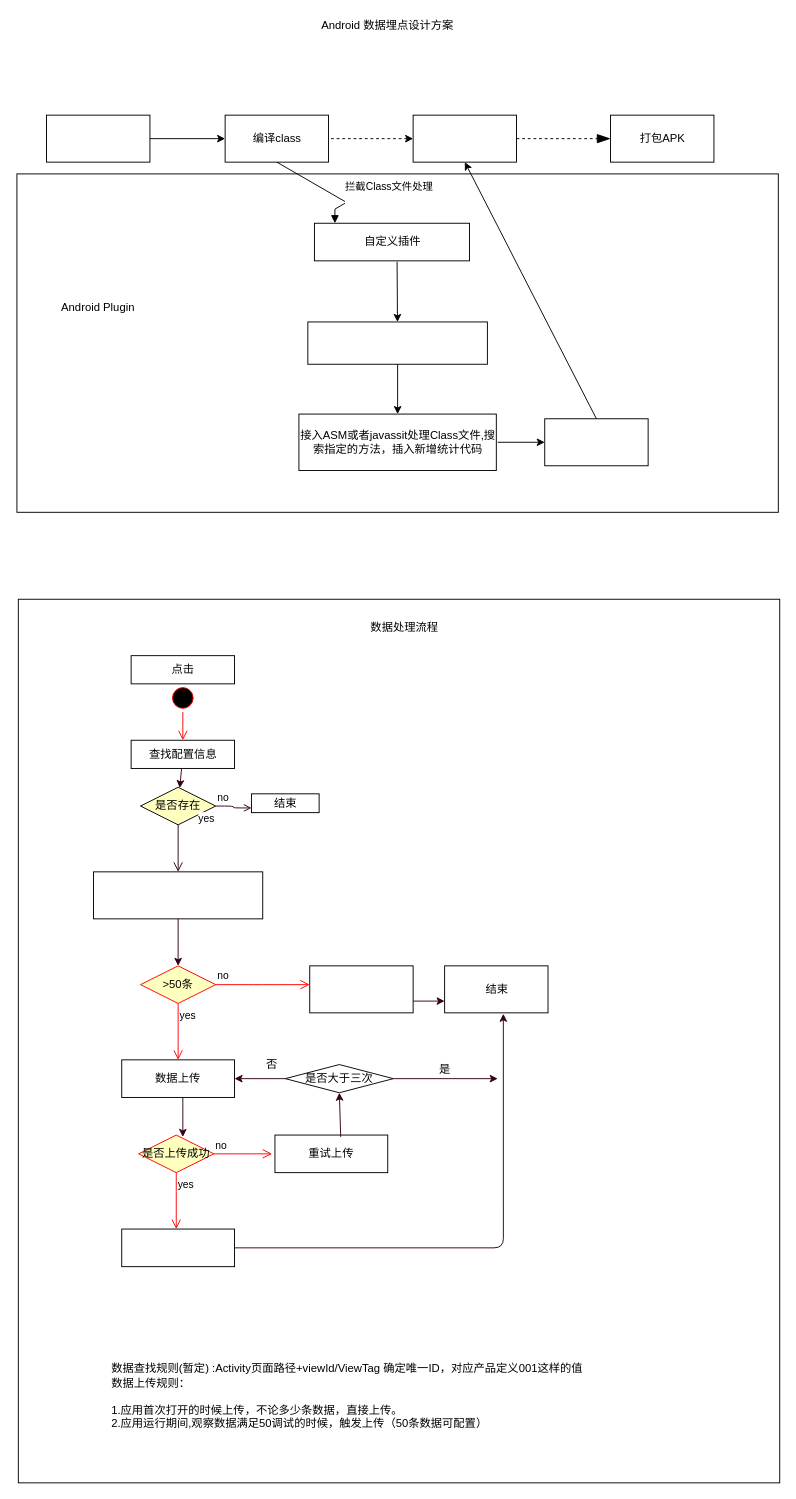
The diagram is 796 pixels wide and 1499 high, and some of its shapes have lost their labels. Each missing label, with the centre of its shape:
"xxx.java" goes at pixel 98 138.
"删除本地50条数据" goes at pixel 178 1247.
"判断当前数据库存储容量" goes at pixel 178 895.
"打包dex" goes at pixel 464 138.
"拦截项目Class文件处理" goes at pixel 397 342.
"插入数据库" goes at pixel 361 989.
"重新编译Class" goes at pixel 596 442.
